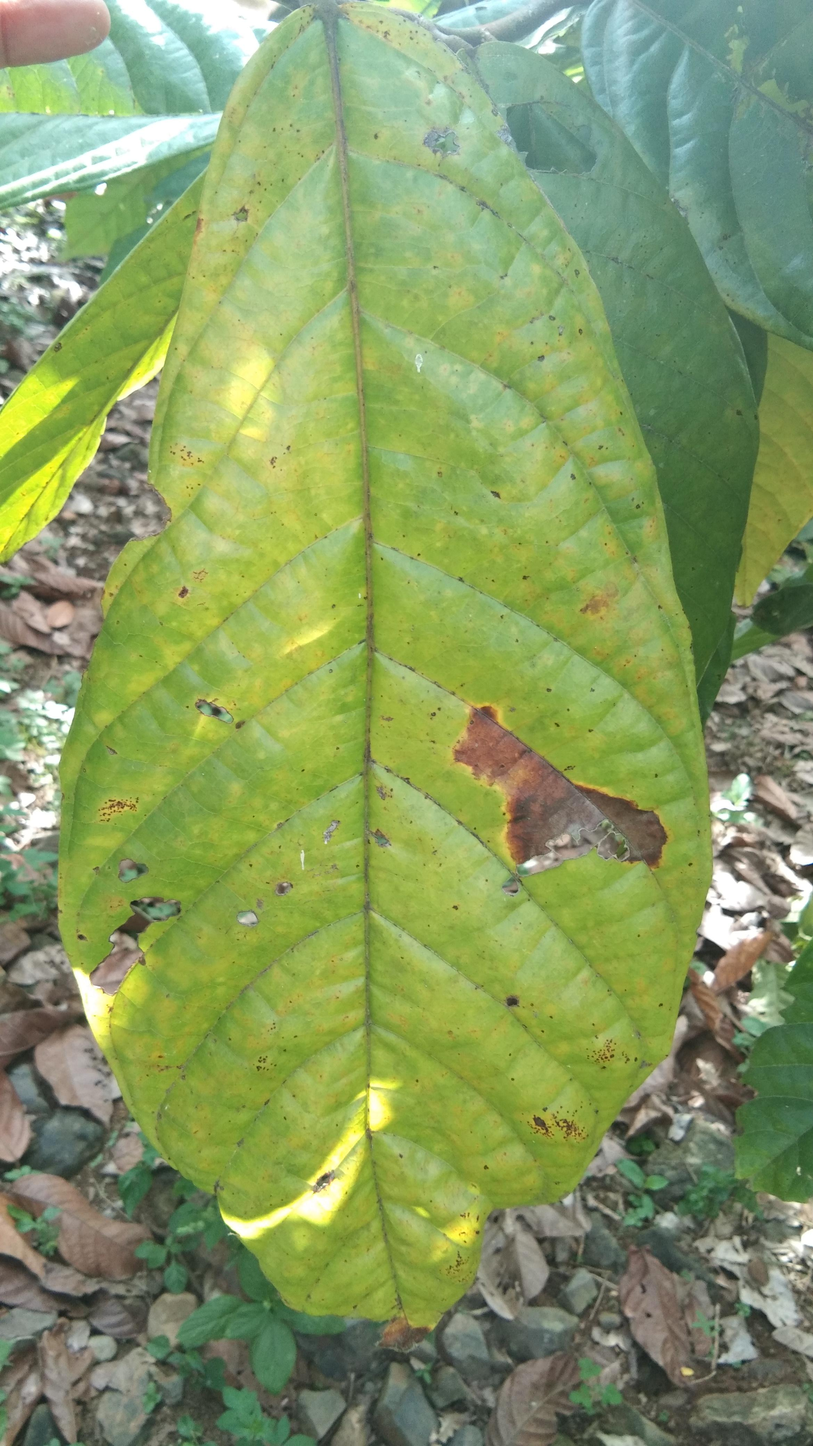deficiencia_potasio: (60, 5, 719, 1332)
